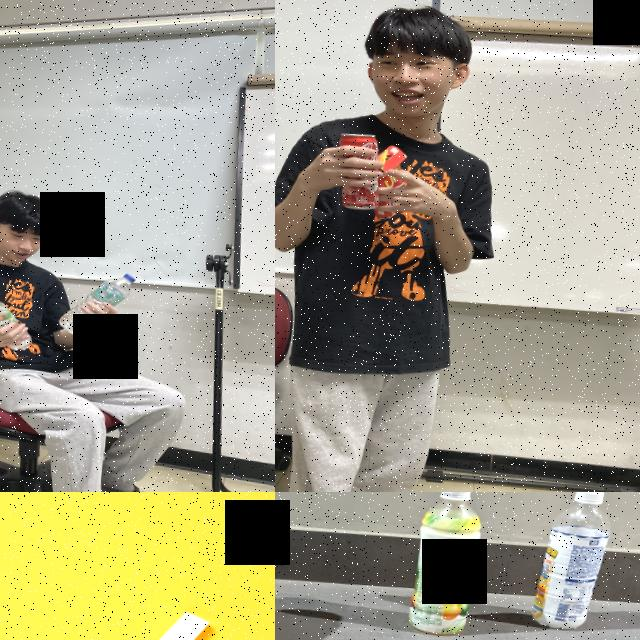bottle: (525, 492, 616, 634), (406, 492, 484, 640), (56, 268, 135, 340), (0, 295, 37, 352)
can: (333, 130, 386, 213)
